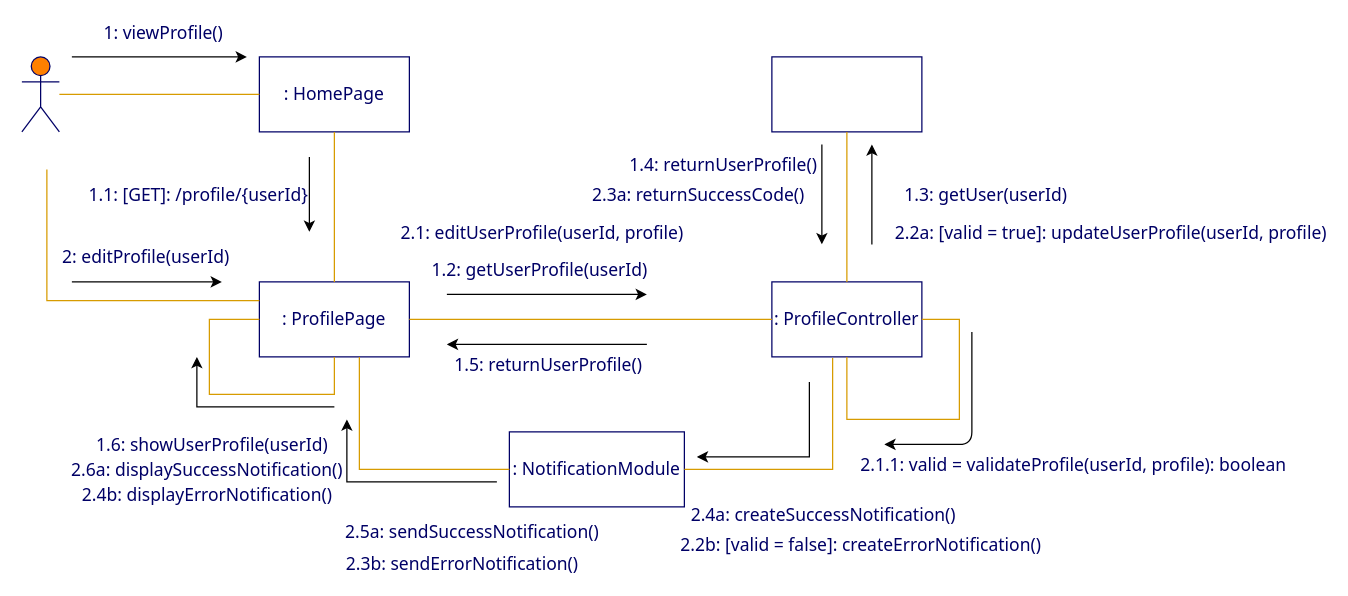
Image size: 1348x596. Some labels were removed from this diagram. The centre of each missing label's shape, as x and y in pixels:
: Database: the point at 846,94
User: the point at 40,94
